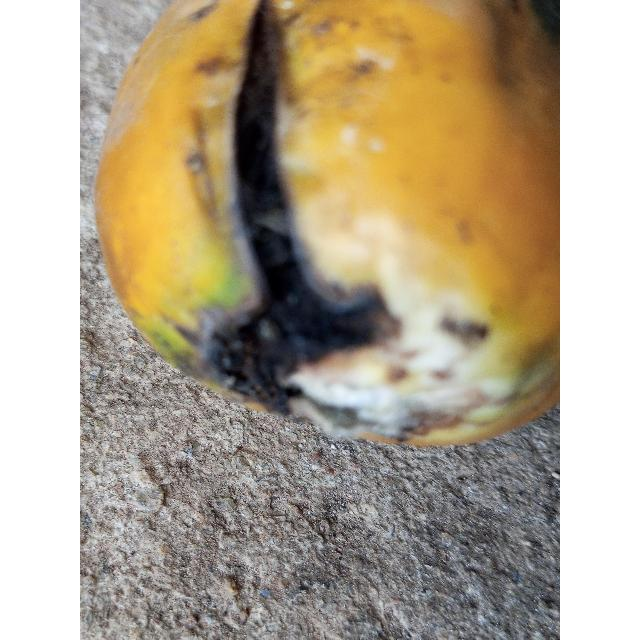damaged: (94, 0, 560, 452)
